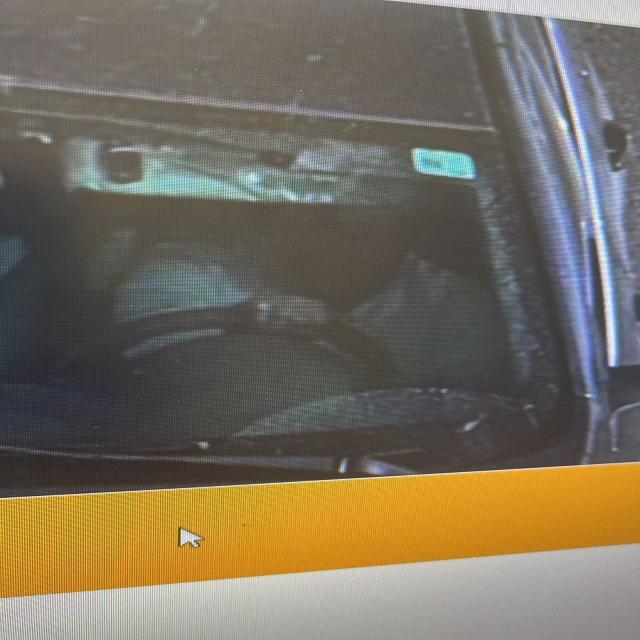person_without_seatbelt: (61, 189, 502, 414)
